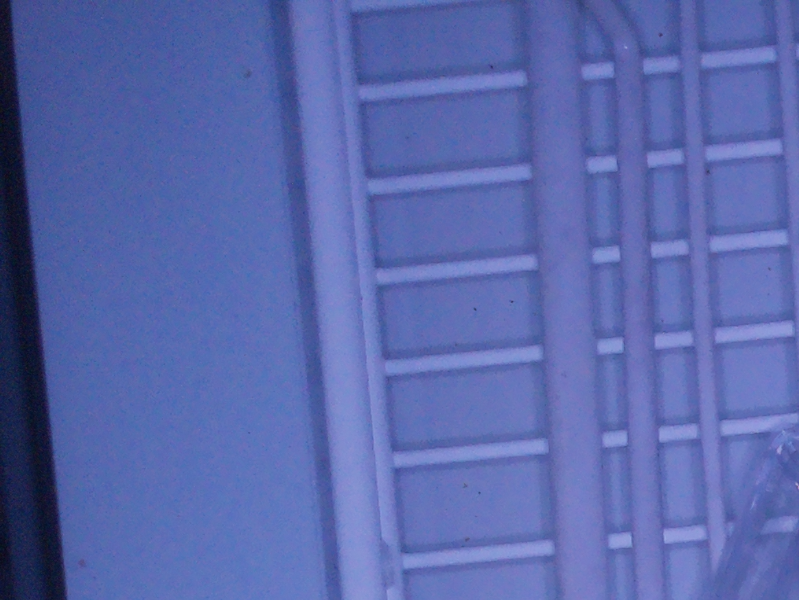plate: (711, 430, 799, 600)
